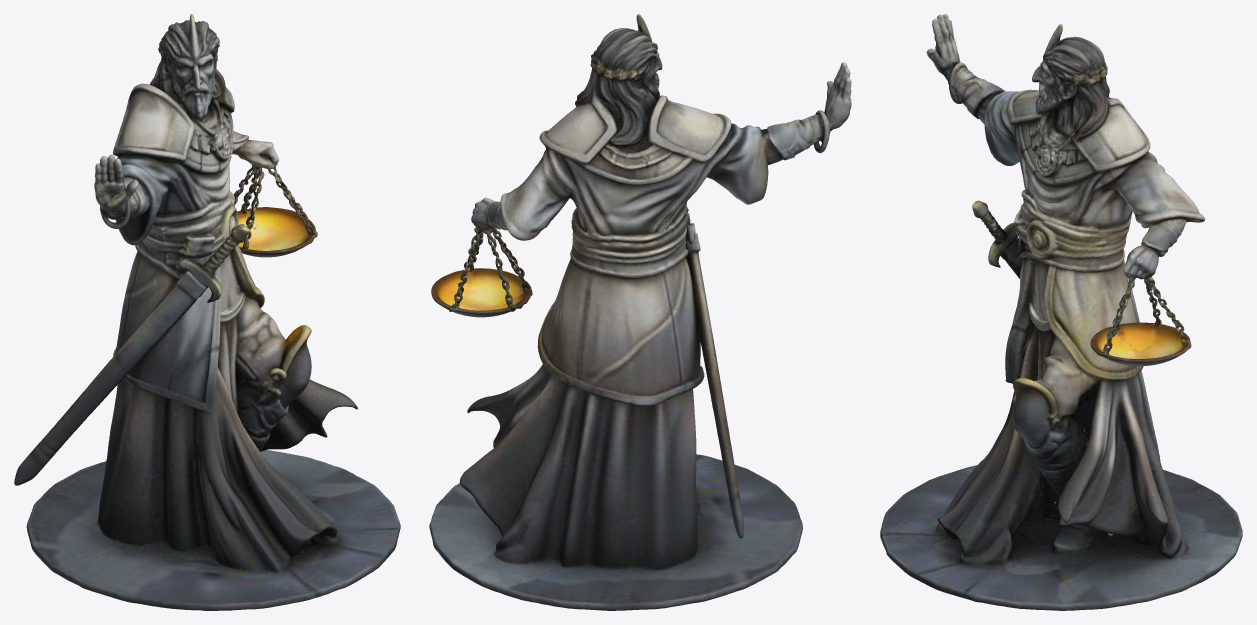
File: Aroden Statue_final.glb
3 views of the same model, side by side, from view 1: azimuth 30°, elevation 25°; view 2: azimuth 150°, elevation 25°; view 3: azimuth 270°, elevation 25° (orthographic). The views are drawn at different scales.
Bounding box in the file's own units: 1.28 × 1.9 × 1.24.
1 material, 1 textured.
